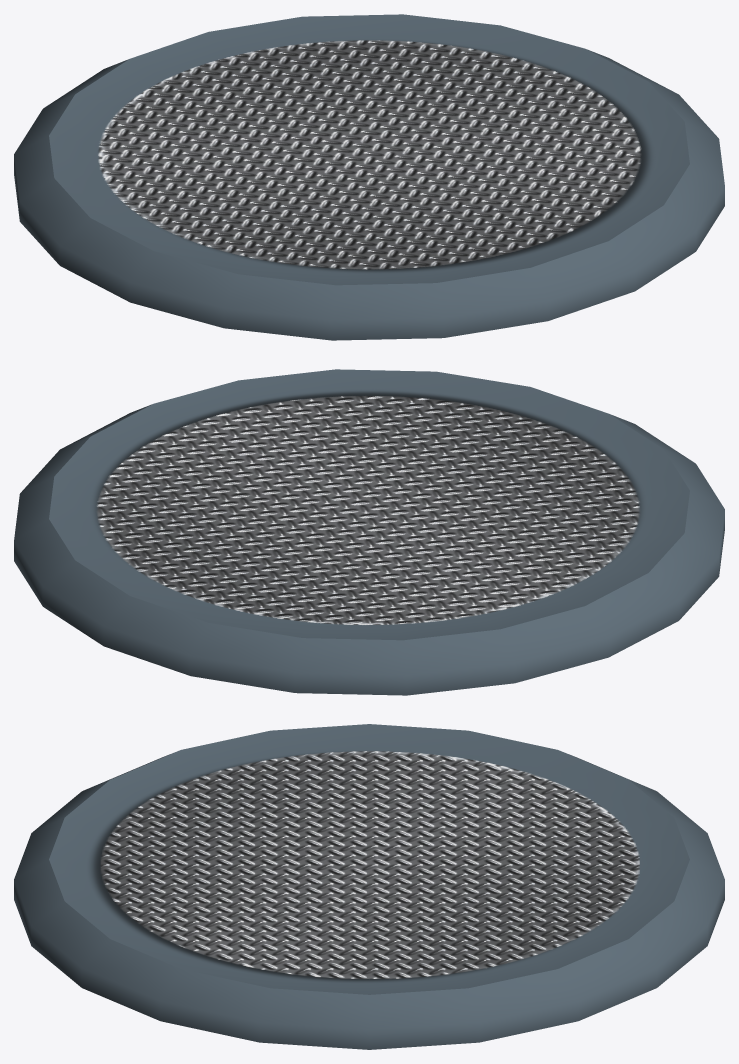
Rendered from TarretBase2.fbx.
3 renders of one model, top to bottom at view 1: azimuth 30°, elevation 25°; view 2: azimuth 150°, elevation 25°; view 3: azimuth 270°, elevation 25°, orthographic.
Visible parts, largest first — view 1: TarretBase_Main; view 2: TarretBase_Main; view 3: TarretBase_Main.
Boxes of the visible parts, bbox=[...] form: TarretBase_Main: bbox=[14, 14, 724, 340]; TarretBase_Main: bbox=[14, 369, 724, 695]; TarretBase_Main: bbox=[14, 724, 724, 1049].
Size of the model in its own units: 80 by 5 by 80.
